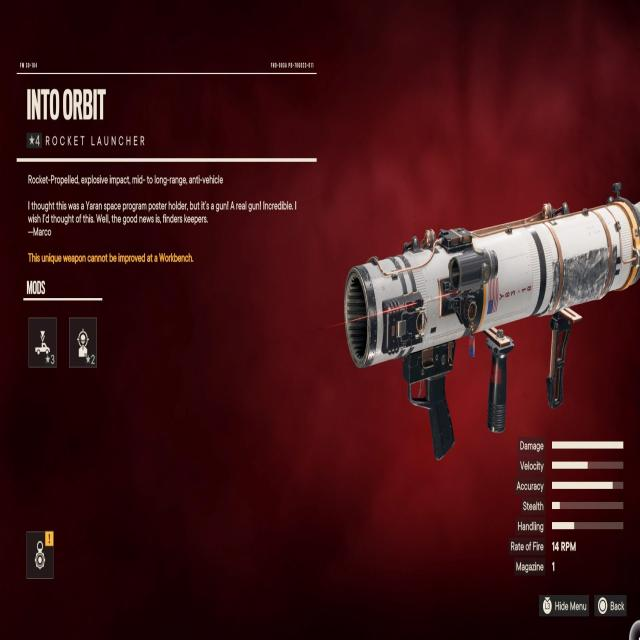bazooka: (336, 158, 640, 447)
